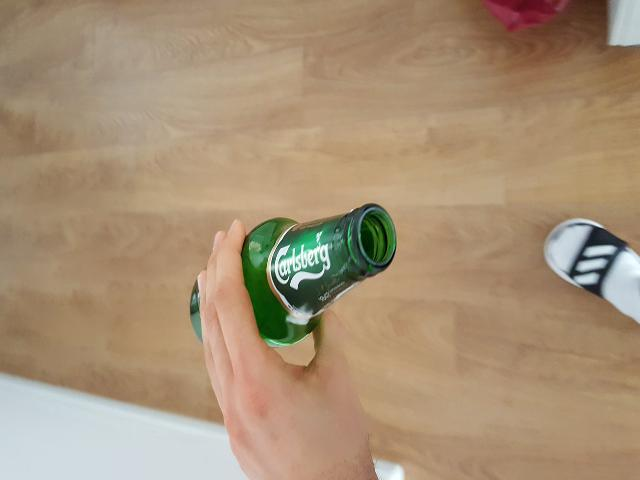beer: (190, 201, 396, 346)
